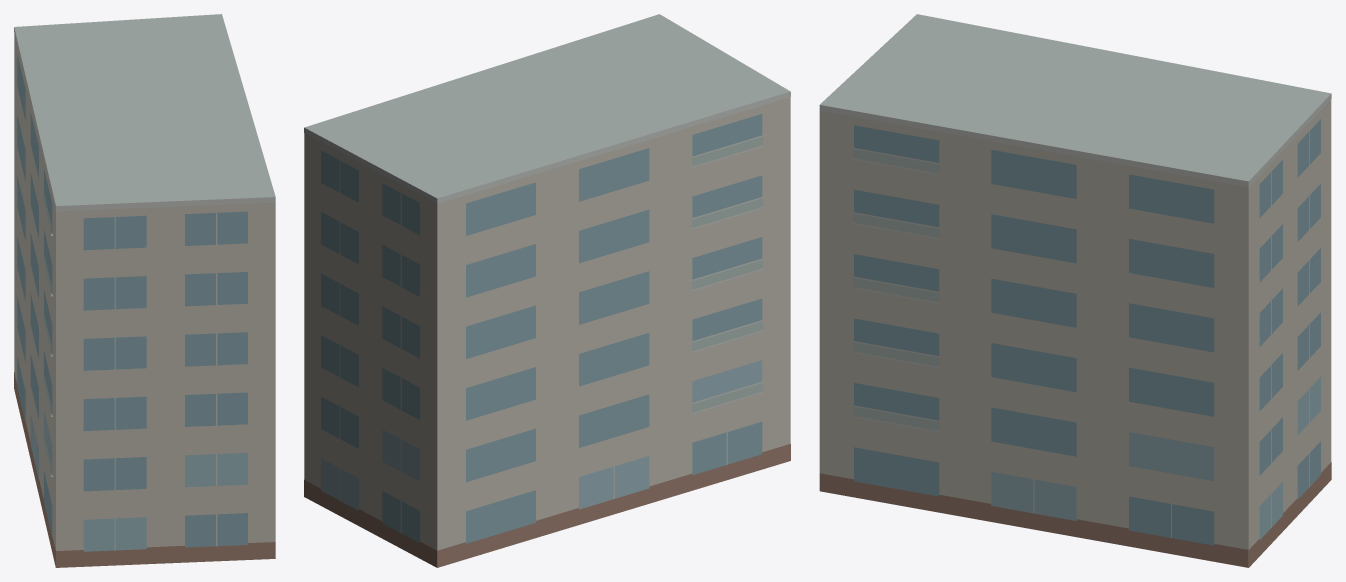
Rendered from survey-upis-32536708.glb.
3 renders of one model, left to right at view 1: azimuth 30°, elevation 25°; view 2: azimuth 150°, elevation 25°; view 3: azimuth 270°, elevation 25°, orthographic. The views are drawn at different scales.
Visible parts, largest first — view 1: survey-upis-32536708.tmp; view 2: survey-upis-32536708.tmp; view 3: survey-upis-32536708.tmp.
Part boxes in pixels (x1=…): survey-upis-32536708.tmp: x1=14, y1=14, x2=275, y2=567; survey-upis-32536708.tmp: x1=304, y1=14, x2=790, y2=567; survey-upis-32536708.tmp: x1=819, y1=14, x2=1331, y2=567.
Bounding box in the file's own units: 15.3 × 16.45 × 19.76.
